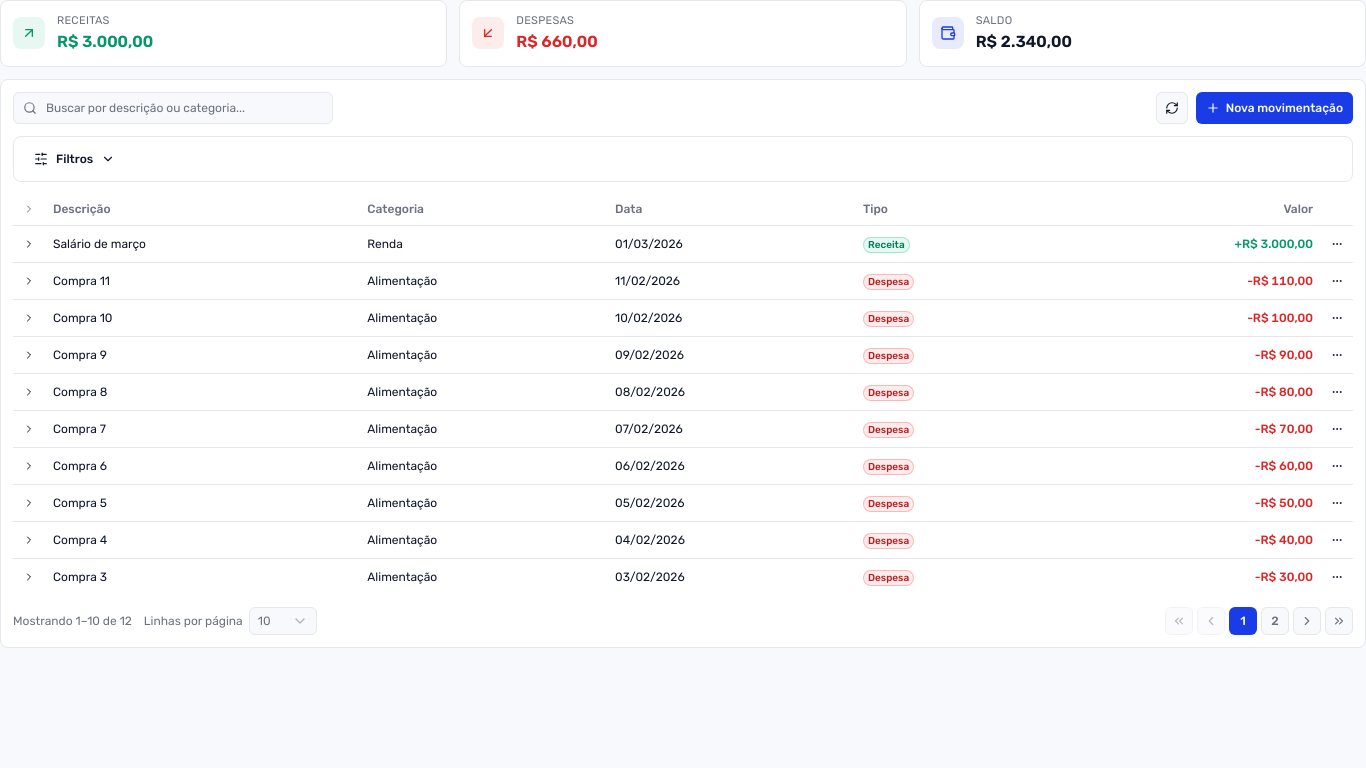
Test: TransactionsSection › moves to the second page
Expected: the text "Salário de março" is shown, [45,226,359,262]
Click the button named "Próxima página": click(1307, 621) [1293,607,1321,635]
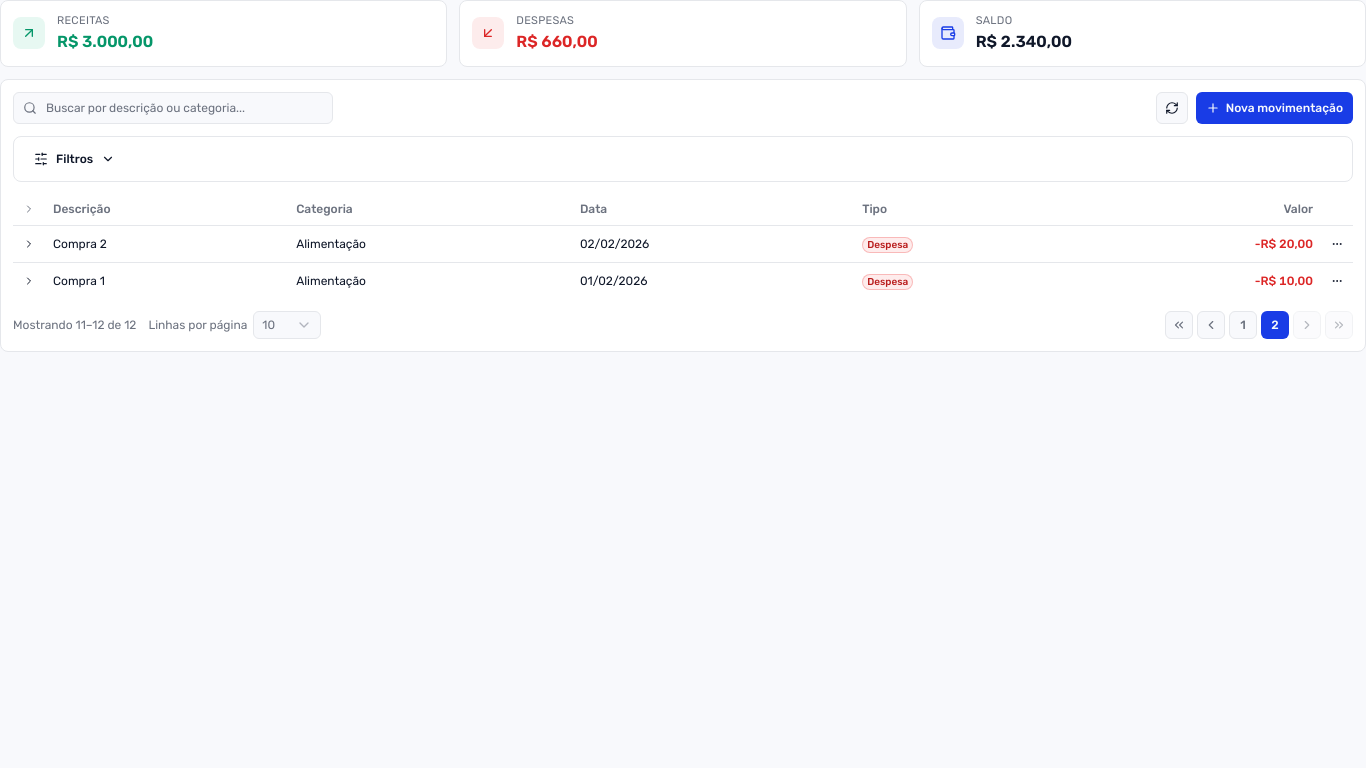
Expected: the text "Mostrando 11–12 de 12" is shown, [13,317,136,333]
